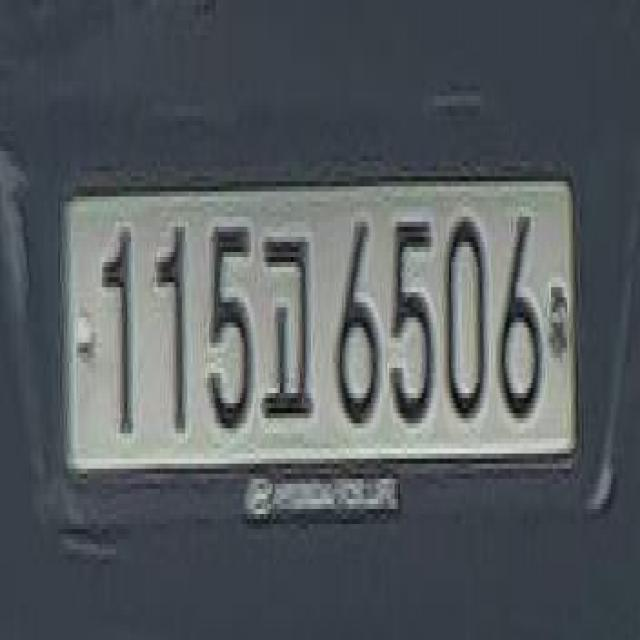illegal_plate: (55, 174, 576, 519)
